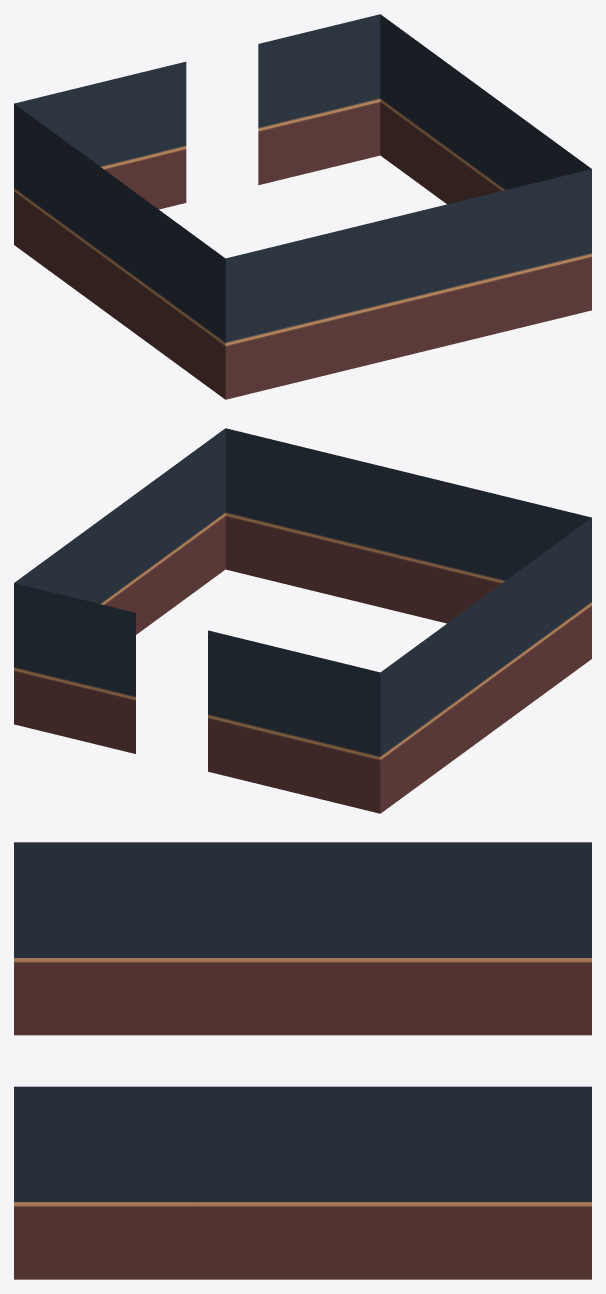
Rendered from SM_Wall_01.fbx.
The picture shows the model from 3 angles, top to bottom: view 1: azimuth 30°, elevation 25°; view 2: azimuth 150°, elevation 25°; view 3: azimuth 270°, elevation 25°; orthographic projection. The views are drawn at different scales.
Parts seen in each view (by area): view 1: SM_Wall_01; view 2: SM_Wall_01; view 3: SM_Wall_01.
Boxes of the visible parts, left/top/right/bottom form: SM_Wall_01: left=14, top=14, right=591, bottom=399; SM_Wall_01: left=14, top=428, right=591, bottom=813; SM_Wall_01: left=14, top=842, right=591, bottom=1279.
Size of the model in its own units: 950 by 350 by 950.
